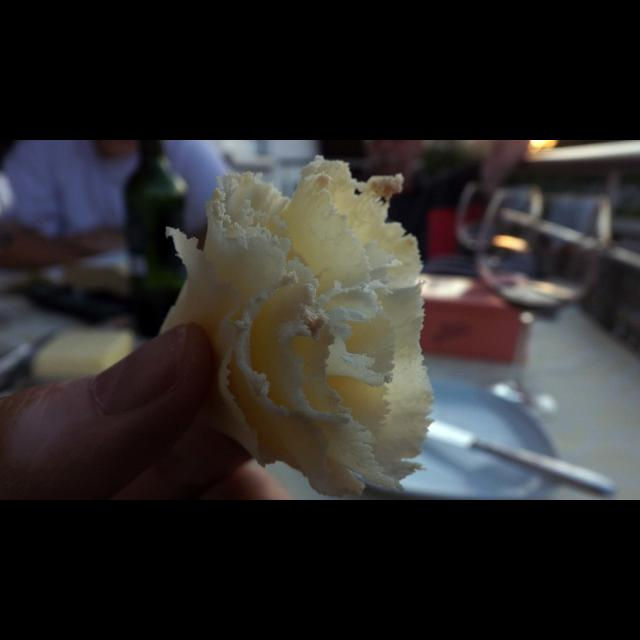Flower: (161, 154, 437, 501)
